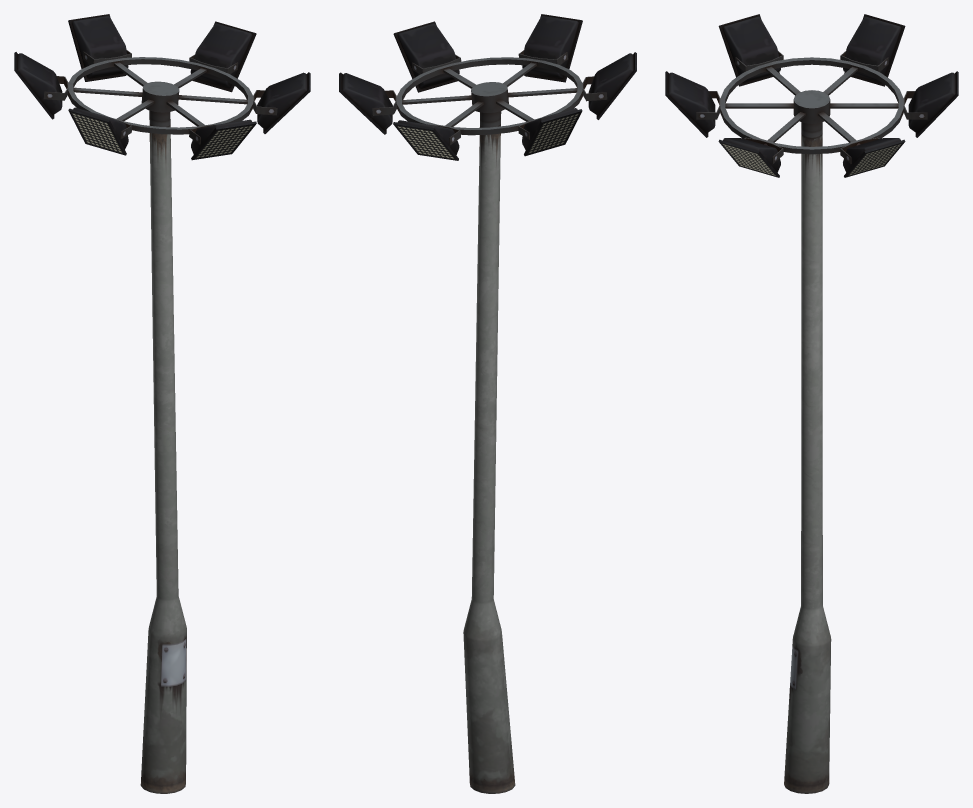
Rendered from TowerLight01A_1.FBX.
3 views of the same model, side by side, from view 1: azimuth 30°, elevation 25°; view 2: azimuth 150°, elevation 25°; view 3: azimuth 270°, elevation 25° (orthographic).
Parts seen in each view (by area): view 1: TowerLight01A_1; view 2: TowerLight01A_1; view 3: TowerLight01A_1.
Boxes of the visible parts, x1,y1,x2,y2 form: TowerLight01A_1: (14, 14, 310, 793); TowerLight01A_1: (339, 14, 636, 793); TowerLight01A_1: (665, 14, 958, 793).
Size of what is drawn, in the model's own units: 2.16 by 6.16 by 2.3.
